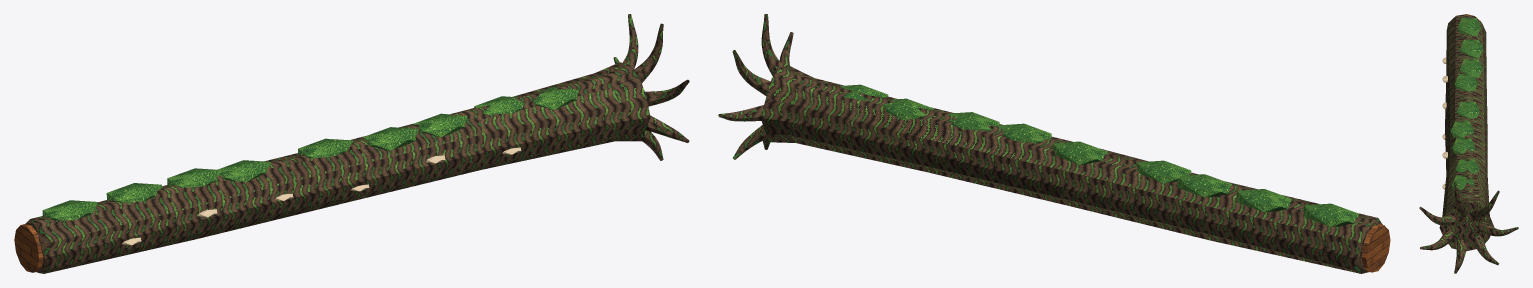
The model's file is encina_log.glb.
3 views of the same model, side by side, from view 1: azimuth 30°, elevation 25°; view 2: azimuth 150°, elevation 25°; view 3: azimuth 270°, elevation 25° (orthographic). The views are drawn at different scales.
Parts seen in each view (by area): view 1: Log; view 2: Log; view 3: Log.
Boxes of the visible parts, left/top/right/bottom form: Log: left=14, top=14, right=689, bottom=273; Log: left=718, top=14, right=1390, bottom=273; Log: left=1419, top=14, right=1518, bottom=273.
Size of the model in its own units: 26.48 by 5.5 by 5.39.
4 materials, 3 textured.
